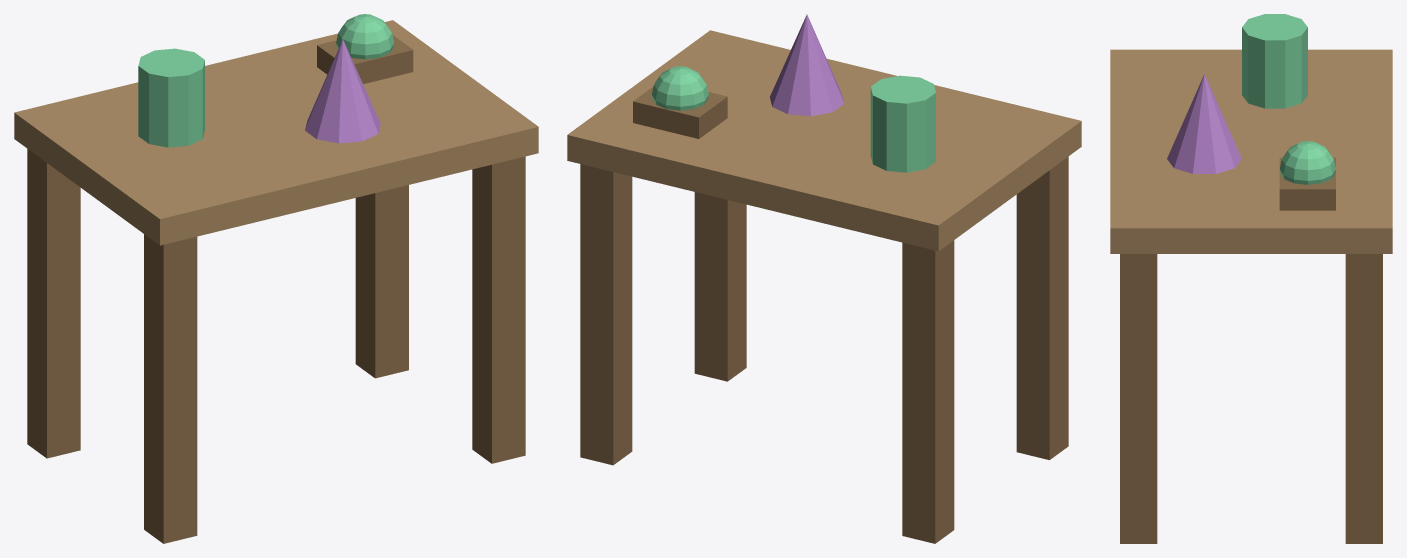
The model's file is station_alchemy_table.glb.
3 views of the same model, side by side, from view 1: azimuth 30°, elevation 25°; view 2: azimuth 150°, elevation 25°; view 3: azimuth 270°, elevation 25° (orthographic). The views are drawn at different scales.
Parts seen in each view (by area): view 1: station_alchemy_table; view 2: station_alchemy_table; view 3: station_alchemy_table.
Part boxes in pixels (x1,y1,x2,y2): station_alchemy_table: (14,14,538,543); station_alchemy_table: (567,14,1081,543); station_alchemy_table: (1110,14,1392,543).
Bounding box in the file's own units: 0.9 × 0.95 × 0.6.
